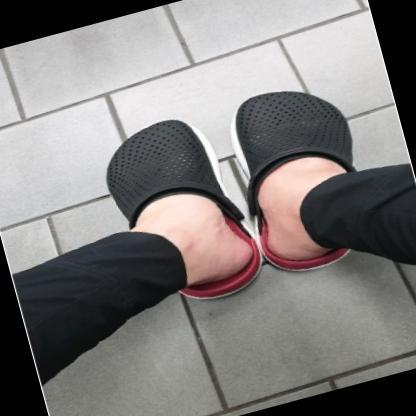no_safety-shoe: (210, 62, 400, 316), (73, 101, 266, 335)
